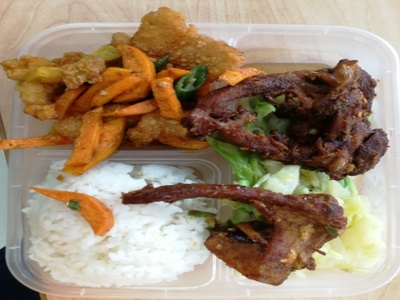r5: (40, 42, 183, 141)
rice: (33, 160, 191, 281)
yt: (257, 61, 385, 171)
